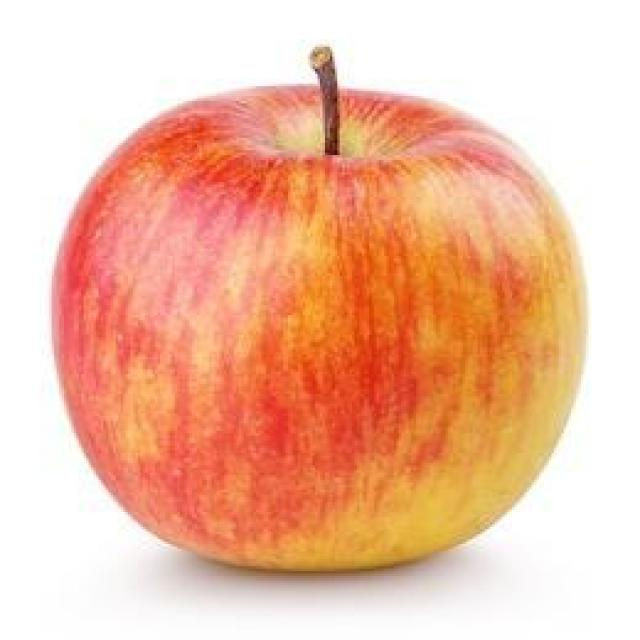apple: (49, 80, 589, 574)
